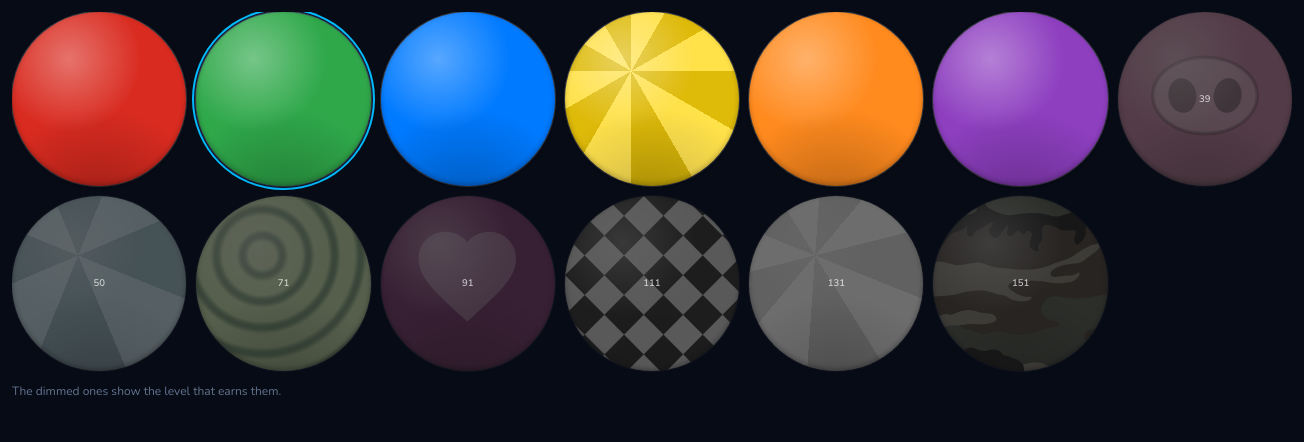
Test: when the save does not take › says so and leaves the previous ball in place
The width and height of the screenshot is (1304, 442).
Click the button with test id "ball-6".
click(1021, 99)  # box [933,12,1108,186]
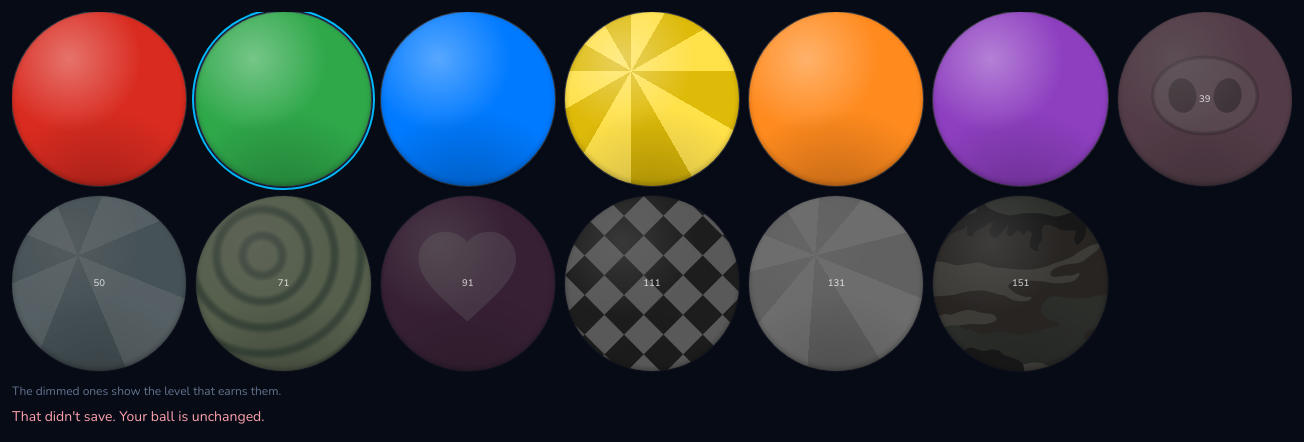
Check: the text "That didn't save. Your ball is unchanged." is shown, box [12,407,264,426]
